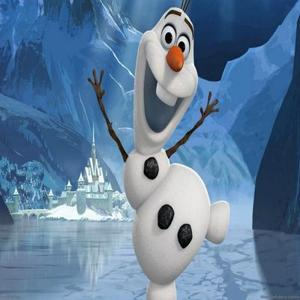olaf: (91, 5, 236, 297)
